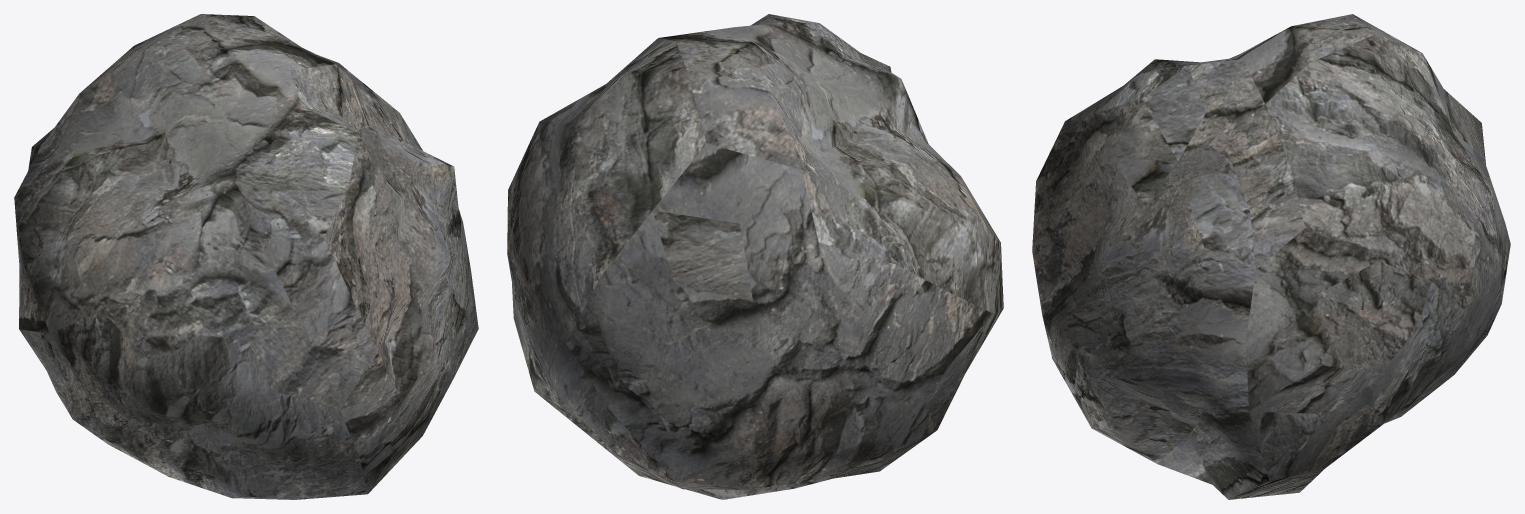
The model's file is kivi3.fbx.
3 views of the same model, side by side, from view 1: azimuth 30°, elevation 25°; view 2: azimuth 150°, elevation 25°; view 3: azimuth 270°, elevation 25° (orthographic). The views are drawn at different scales.
Visible parts, largest first — view 1: Icosphere_001; view 2: Icosphere_001; view 3: Icosphere_001.
Boxes of the visible parts, bbox=[...] form: Icosphere_001: bbox=[14, 14, 478, 499]; Icosphere_001: bbox=[507, 14, 1003, 499]; Icosphere_001: bbox=[1032, 14, 1510, 499].
Size of the model in its own units: 3.27 by 3.23 by 3.28.
